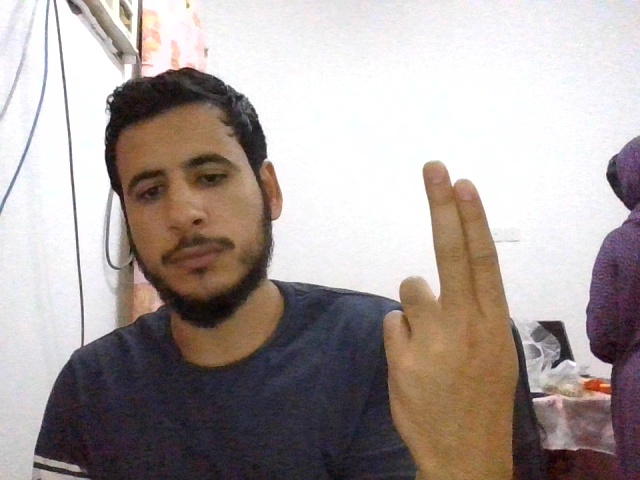Two: (383, 160, 520, 480)
